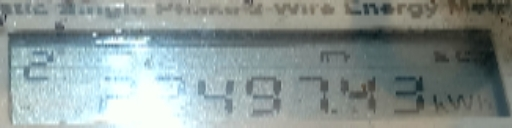2: (94, 67, 142, 127), (150, 72, 187, 128)
3: (388, 66, 425, 122)
4: (198, 67, 235, 123), (340, 68, 377, 124)
7: (292, 62, 329, 118)
9: (246, 66, 283, 122)
d: (329, 104, 343, 119)
